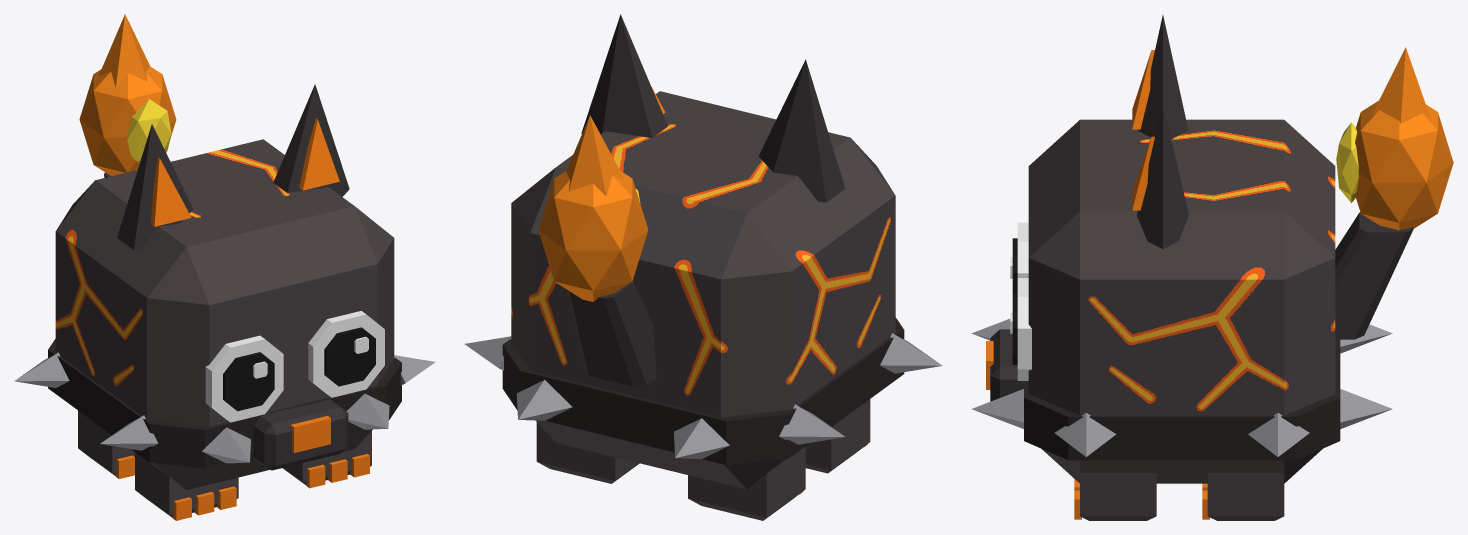
Rendered from Hellhound.fbx.
The picture shows the model from 3 angles, left to right: view 1: azimuth 30°, elevation 25°; view 2: azimuth 150°, elevation 25°; view 3: azimuth 270°, elevation 25°; orthographic projection. The views are drawn at different scales.
Visible parts, largest first — view 1: Hellhound, Hellhound_Collar, Hellhound_Flame, Hellhound_Eyes, Hellhound_Ears, Hellhound_Feet, Hellhound_Spikes, Hellhound_Pupils, Hellhound_Snout, Hellhound_EarInner, Hellhound_Toes, Hellhound_FlameInner (+1 smaller); view 2: Hellhound, Hellhound_Collar, Hellhound_Flame, Hellhound_Ears, Hellhound_Feet, Hellhound_Tail, Hellhound_Spikes; view 3: Hellhound, Hellhound_Collar, Hellhound_Flame, Hellhound_Feet, Hellhound_Ears, Hellhound_Tail, Hellhound_Spikes, Hellhound_Eyes, Hellhound_Snout, Hellhound_EarInner, Hellhound_FlameInner, Hellhound_Pupils.
Boxes of the visible parts, x1,y1,x2,y2 form: Hellhound: [55, 139, 394, 489]; Hellhound_Collar: [48, 339, 401, 468]; Hellhound_Flame: [79, 14, 176, 175]; Hellhound_Eyes: [205, 311, 384, 422]; Hellhound_Ears: [117, 84, 349, 249]; Hellhound_Feet: [78, 410, 371, 517]; Hellhound_Spikes: [14, 352, 435, 463]; Hellhound_Pupils: [223, 327, 375, 411]; Hellhound_Snout: [253, 399, 348, 470]; Hellhound_EarInner: [151, 118, 339, 226]; Hellhound_Toes: [115, 454, 369, 520]; Hellhound_FlameInner: [127, 99, 171, 163]; Hellhound: [511, 91, 895, 489]; Hellhound_Collar: [502, 317, 904, 464]; Hellhound_Flame: [538, 115, 648, 301]; Hellhound_Ears: [581, 14, 845, 202]; Hellhound_Feet: [536, 399, 870, 520]; Hellhound_Tail: [567, 281, 656, 386]; Hellhound_Spikes: [464, 333, 942, 459]; Hellhound: [1028, 119, 1335, 483]; Hellhound_Collar: [1024, 339, 1340, 460]; Hellhound_Flame: [1355, 47, 1453, 230]; Hellhound_Feet: [1080, 473, 1284, 520]; Hellhound_Ears: [1137, 15, 1188, 248]; Hellhound_Tail: [1335, 212, 1413, 339]; Hellhound_Spikes: [971, 318, 1392, 456]; Hellhound_Eyes: [1010, 222, 1031, 380]; Hellhound_Snout: [990, 329, 1023, 401]; Hellhound_EarInner: [1132, 50, 1154, 210]; Hellhound_FlameInner: [1336, 122, 1358, 202]; Hellhound_Pupils: [1012, 238, 1017, 364].
Size of the model in its own units: 2.72 by 2.92 by 3.02.
14 materials, 1 textured.
